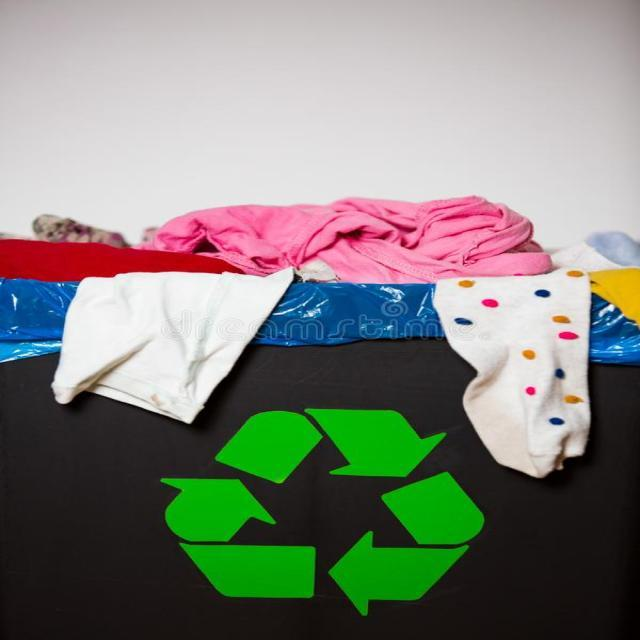clothes: (70, 204, 573, 277)
